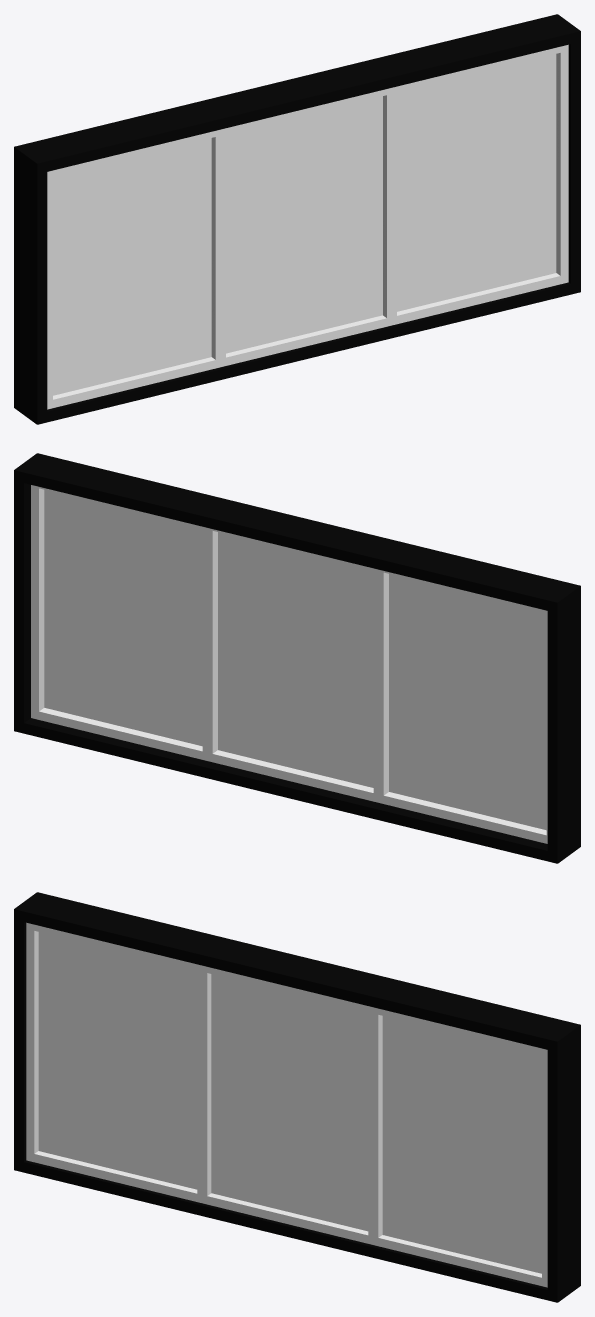
The model's file is wxH.fbx.
The picture shows the model from 3 angles, top to bottom: view 1: azimuth 30°, elevation 25°; view 2: azimuth 150°, elevation 25°; view 3: azimuth 330°, elevation 25°; orthographic projection.
Visible parts, largest first — view 1: glass, i; view 2: glass, i; view 3: glass, i.
Part boxes in pixels (x1,y1,x2,y2): glass: (53, 54, 556, 395); i: (14, 14, 580, 424); glass: (44, 489, 546, 830); i: (14, 453, 580, 863); glass: (38, 932, 541, 1273); i: (14, 892, 580, 1302).
Size of the model in its own units: 27 by 12.39 by 2.
